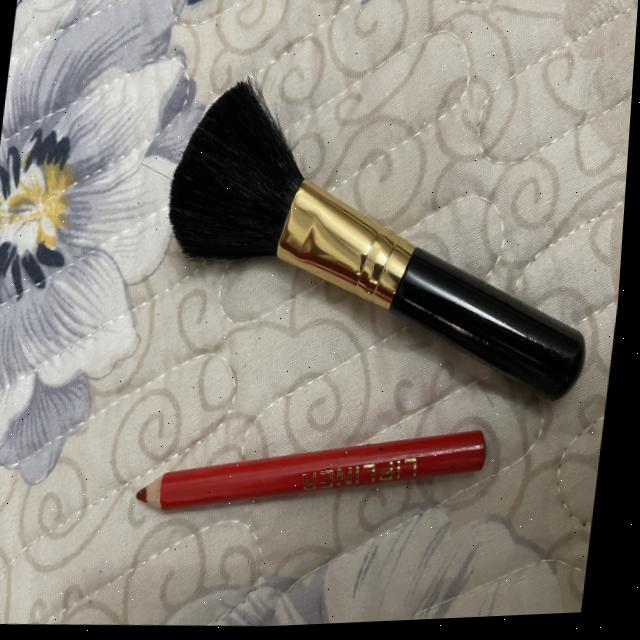brush: (138, 55, 636, 420)
lip liner: (122, 395, 503, 550)
